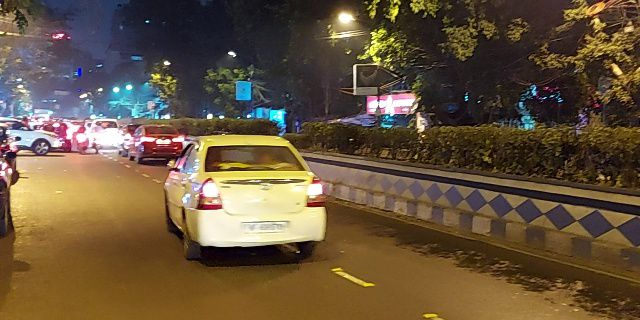Car: (167, 133, 336, 262), (131, 123, 182, 151)
